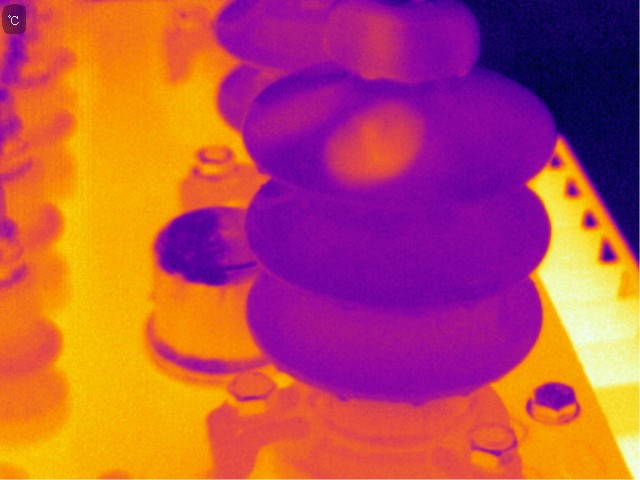Oil: (324, 96, 437, 193), (327, 3, 410, 84), (258, 91, 320, 148), (335, 386, 358, 404), (408, 392, 427, 410)
